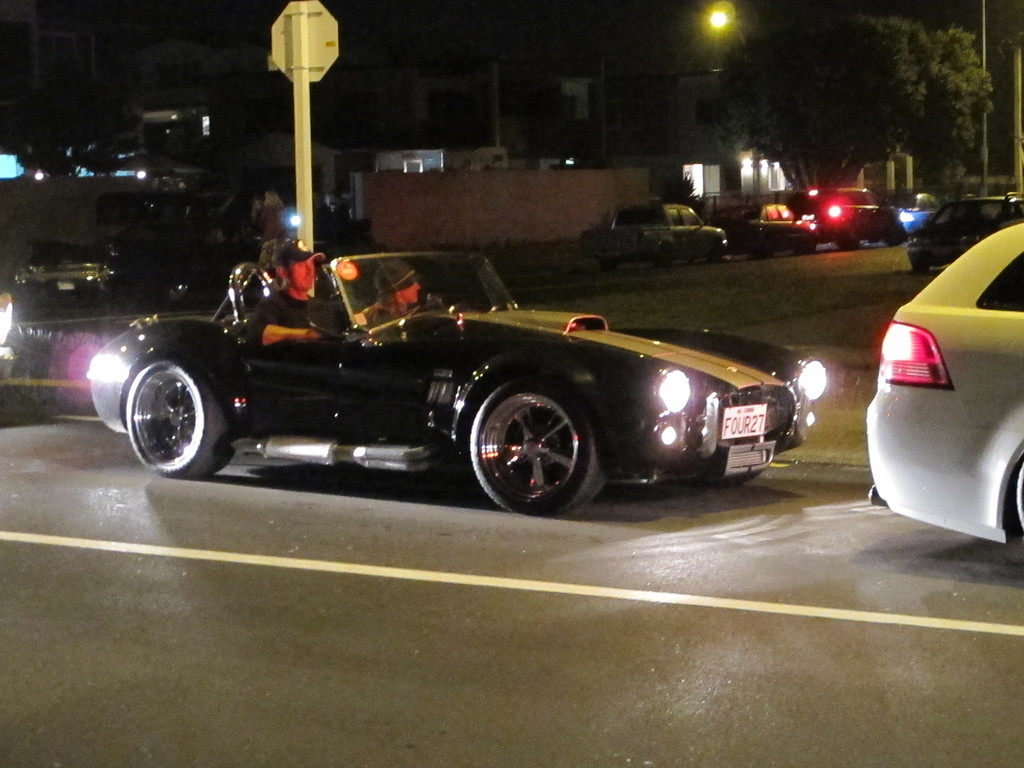person: (239, 237, 377, 439)
